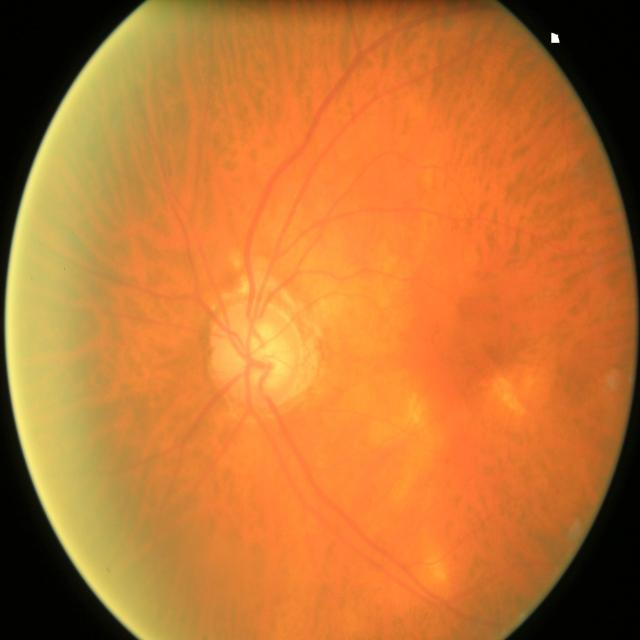OC: (252, 324, 292, 388)
OD: (209, 304, 297, 406)
